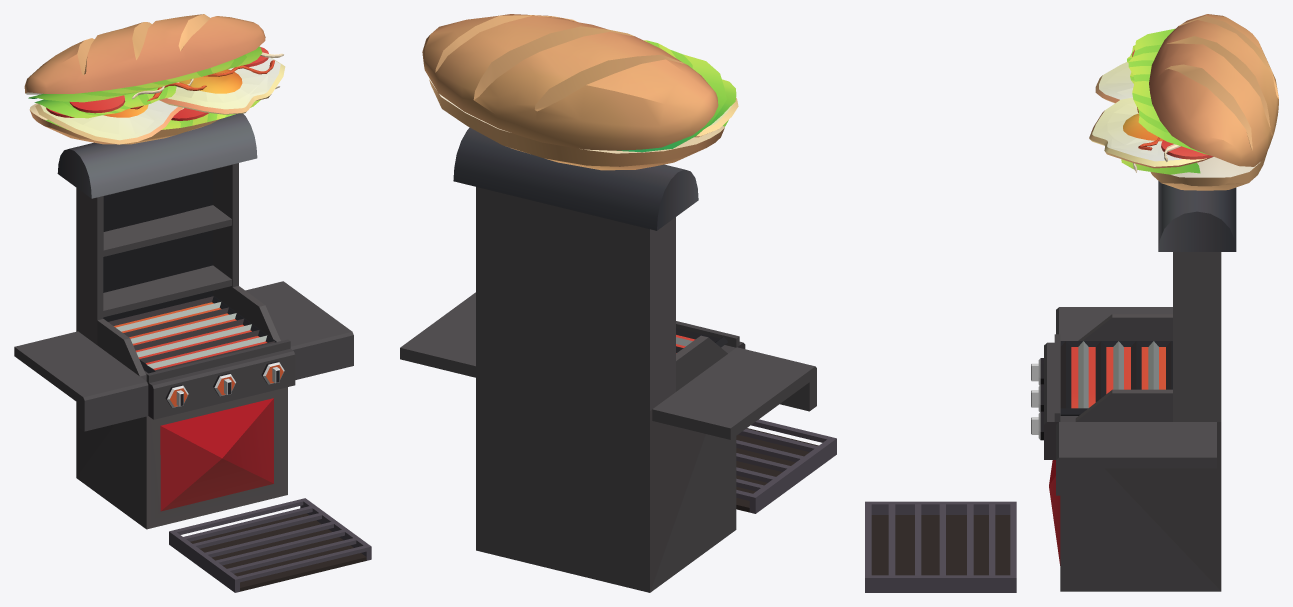
File: Machine_Egg.fbx
3 renders of one model, left to right at view 1: azimuth 30°, elevation 25°; view 2: azimuth 150°, elevation 25°; view 3: azimuth 270°, elevation 25°, orthographic. The views are drawn at different scales.
Visible parts, largest first — view 1: Machine_Egg; view 2: Machine_Egg; view 3: Machine_Egg.
Boxes of the visible parts, <box> form: Machine_Egg: <box>14,14,371,592</box>; Machine_Egg: <box>400,14,836,592</box>; Machine_Egg: <box>865,14,1278,592</box>.
Size of the model in its own units: 651 by 1021 by 757.
